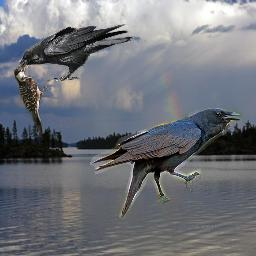Crow: (90, 108, 242, 219), (17, 24, 134, 81)
Woodpecker: (14, 65, 49, 135)
